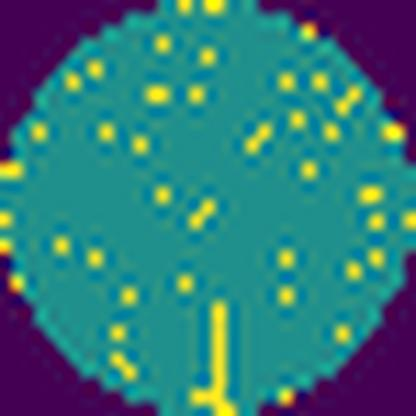Scratch: (186, 298, 241, 416)
